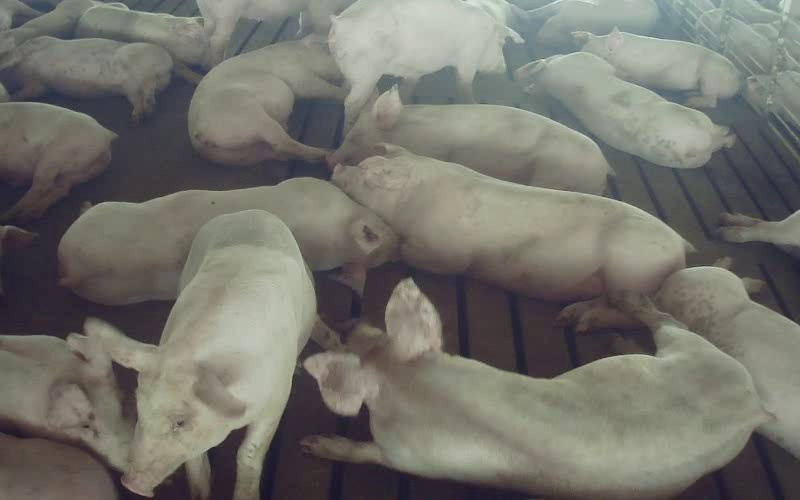pig: (302, 279, 766, 497), (85, 212, 339, 499), (332, 145, 691, 330), (59, 178, 398, 304), (655, 257, 799, 458), (328, 0, 520, 133), (515, 52, 735, 167), (188, 34, 345, 164), (0, 102, 117, 221), (572, 27, 739, 106), (75, 3, 207, 83), (527, 0, 659, 50)
